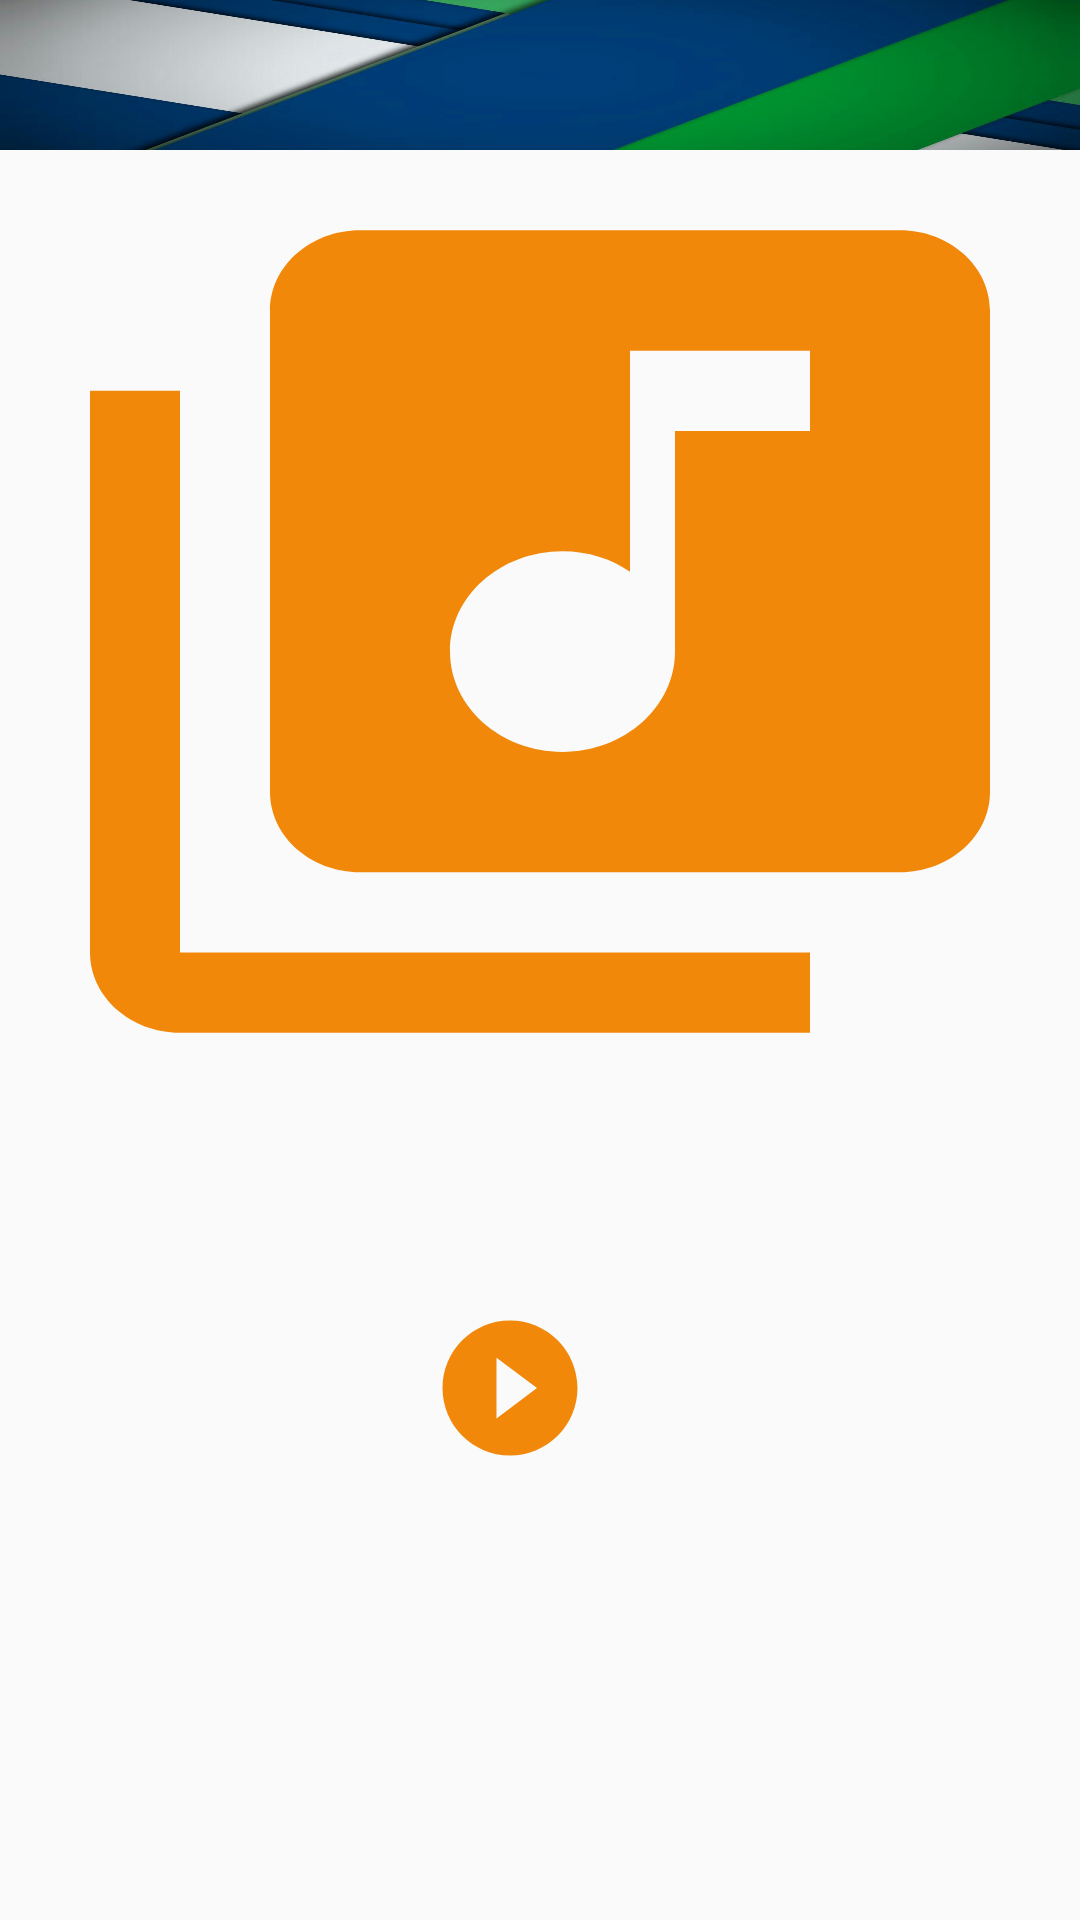

Named icons in this screenshot (1080w x 1920h) and their bounding boxes, box=[x1, y1, x2, y2]:
play: box=[442, 1320, 578, 1456]
